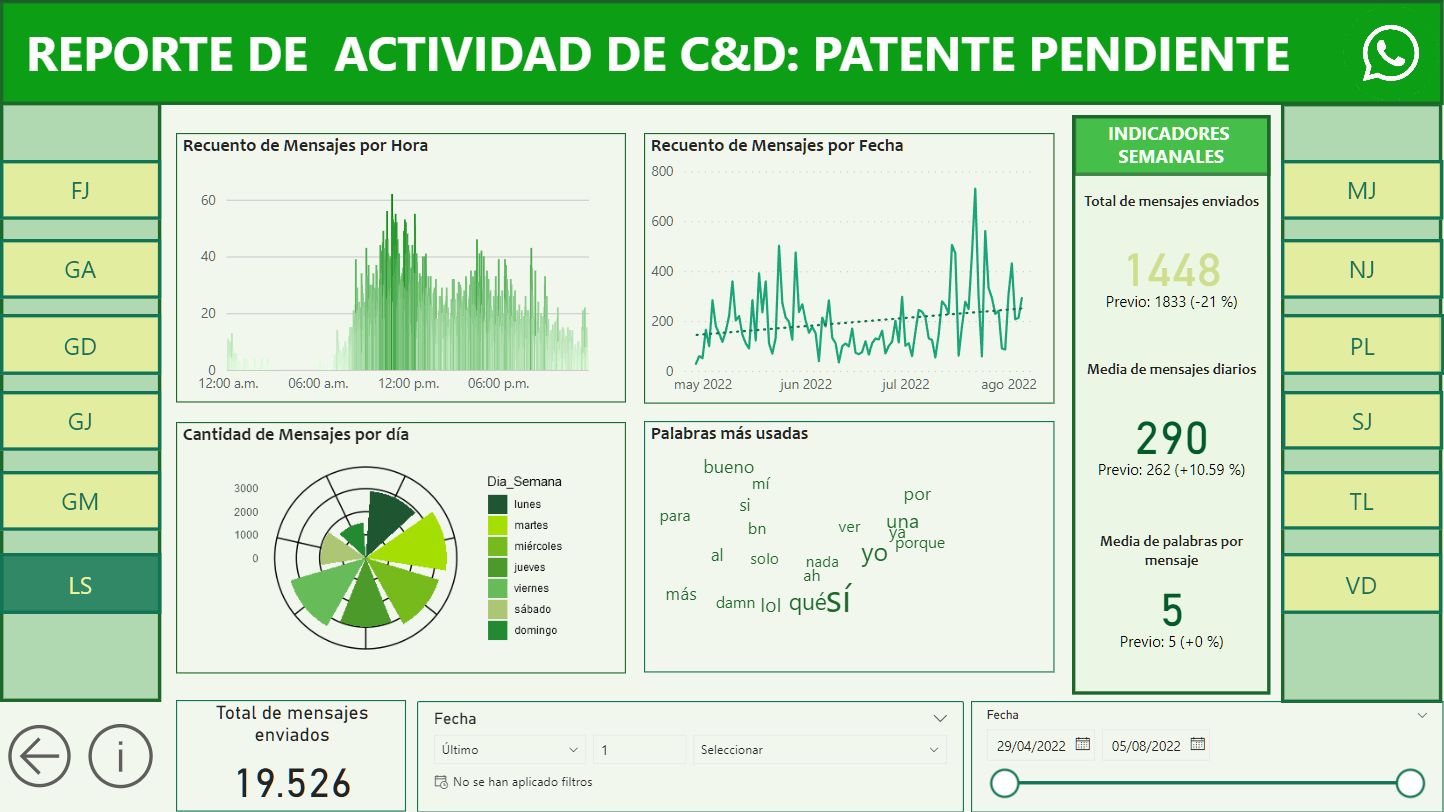

The page's visual inventory and layout, read from the dashboard file:
{"tool":"powerbi","page":{"name":"LS","canvas":[1280,720],"ordinal":6},"visuals":[{"type":"shape","box":[0,112.6,199.5,523.2],"z":0},{"type":"shape","box":[0,0,1280,118.7],"z":1000},{"type":"image","box":[1167.2,5.8,112.8,106],"z":2000},{"type":"textbox","box":[0,24.3,1167.2,69.1],"z":3000},{"type":"shape","box":[1080,112.6,199.5,523.2],"z":4000},{"type":"slicer","fields":{"Values":["whatsapp_chat mychats.Fecha"]},"box":[419.4,635.8,440.7,85.1],"z":5000},{"type":"columnChart","title":"Recuento de Mensajes por Hora","fields":{"Category":["whatsapp_chat mychats.Hora"],"Y":["CountNonNull(whatsapp_chat mychats.Indice)"]},"box":[640.2,118.8,439.8,275.8],"z":6000},{"type":"donutChart","title":"Proporción de Sentimiento por Mensajes","fields":{"Category":["whatsapp_chat mychats.Sentimiento"],"Y":["CountNonNull(whatsapp_chat mychats.Indice)"]},"box":[199.5,394.6,440.7,241.2],"z":7000},{"type":"lineChart","title":"Recuento de Mensajes por Fecha","fields":{"Y":["CountNonNull(whatsapp_chat mychats.Indice)"],"Category":["whatsapp_chat mychats.Fecha"]},"box":[200.4,118.8,439.8,275.8],"z":8000},{"type":"actionButton","box":[0,518.7,199.5,53.2],"z":9000},{"type":"actionButton","box":[0,445.1,199.5,53.2],"z":10000},{"type":"actionButton","box":[0,374.2,199.5,53.2],"z":11000},{"type":"actionButton","box":[0,306.8,199.5,53.2],"z":12000},{"type":"actionButton","box":[0,239.4,199.5,53.2],"z":13000},{"type":"actionButton","box":[0,169.4,199.5,53.2],"z":14000},{"type":"actionButton","box":[1080.4,518.7,199.5,53.2],"z":15000},{"type":"actionButton","box":[1080.4,445.1,199.5,53.2],"z":16000},{"type":"actionButton","box":[1080.4,374.2,199.5,53.2],"z":17000},{"type":"actionButton","box":[1080.4,306.8,199.5,53.2],"z":18000},{"type":"actionButton","box":[1080.4,239.4,199.5,53.2],"z":19000},{"type":"actionButton","box":[1080.4,169.4,199.5,53.2],"z":20000},{"type":"WordCloud1447959067750","title":"Palabras más usadas","fields":{"Category":["whatsapp_chat mychats.Mensaje"],"Values":["CountNonNull(whatsapp_chat mychats.Indice)"]},"box":[640.5,394.6,314.9,241],"z":21000},{"type":"actionButton","box":[113.1,636.2,86.2,83.4],"z":22000},{"type":"card","title":"Total de mensajes enviados","fields":{"Values":["CountNonNull(whatsapp_chat mychats.Indice)"]},"box":[199.5,635.8,220.8,84.2],"z":23000},{"type":"actionButton","box":[0,638.1,75.7,80.5],"z":24000},{"type":"slicer","fields":{"Values":["whatsapp_chat mychats.Fecha"]},"box":[860.4,635.7,418.7,84.3],"z":25000},{"type":"card","title":"Media de Palabras por Mensaje","fields":{"Values":["Tabla_Medidas.Media_Palabras_Por_Mensaje"]},"box":[955.4,394.6,124.4,123.4],"z":25001},{"type":"card","title":"Total de Palabras enviadas","fields":{"Values":["Sum(whatsapp_chat mychats.Cantidad_Palabras)"]},"box":[954.3,518.3,125.5,117.8],"z":25002}]}

Visuals, with their boxes in screenshot pixels (x1, y1, x2, y2), scaled from the page's 1280x720 canvas onto the 1444x812 screenshot:
shape: (left=0, top=127, right=225, bottom=717)
shape: (left=0, top=0, right=1443, bottom=134)
image: (left=1317, top=7, right=1443, bottom=126)
textbox: (left=0, top=27, right=1317, bottom=105)
shape: (left=1218, top=127, right=1443, bottom=717)
slicer - whatsapp_chat mychats.Fecha: (left=473, top=717, right=970, bottom=811)
"Recuento de Mensajes por Hora" columnChart: (left=722, top=134, right=1218, bottom=445)
"Proporción de Sentimiento por Mensajes" donutChart: (left=225, top=445, right=722, bottom=717)
"Recuento de Mensajes por Fecha" lineChart: (left=226, top=134, right=722, bottom=445)
actionButton: (left=0, top=585, right=225, bottom=645)
actionButton: (left=0, top=502, right=225, bottom=562)
actionButton: (left=0, top=422, right=225, bottom=482)
actionButton: (left=0, top=346, right=225, bottom=406)
actionButton: (left=0, top=270, right=225, bottom=330)
actionButton: (left=0, top=191, right=225, bottom=251)
actionButton: (left=1219, top=585, right=1443, bottom=645)
actionButton: (left=1219, top=502, right=1443, bottom=562)
actionButton: (left=1219, top=422, right=1443, bottom=482)
actionButton: (left=1219, top=346, right=1443, bottom=406)
actionButton: (left=1219, top=270, right=1443, bottom=330)
actionButton: (left=1219, top=191, right=1443, bottom=251)
"Palabras más usadas" WordCloud1447959067750: (left=723, top=445, right=1078, bottom=717)
actionButton: (left=128, top=717, right=225, bottom=811)
"Total de mensajes enviados" card: (left=225, top=717, right=474, bottom=811)
actionButton: (left=0, top=720, right=85, bottom=810)
slicer - whatsapp_chat mychats.Fecha: (left=971, top=717, right=1443, bottom=811)
"Media de Palabras por Mensaje" card: (left=1078, top=445, right=1218, bottom=584)
"Total de Palabras enviadas" card: (left=1077, top=585, right=1218, bottom=717)
